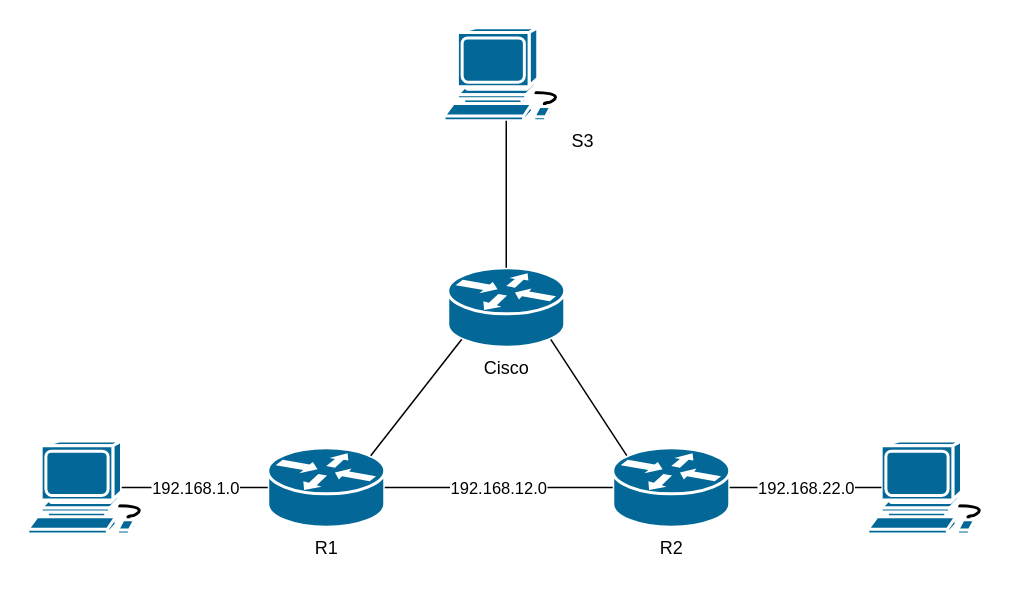
Some shapes in this 1019 by 591 pixel diagram are drawn without their labels. Here are the shapes that lost their labels. From the top down, the centre of each, then its label:
At pixel 89 487: "S1".
At pixel 929 487: "S2".
